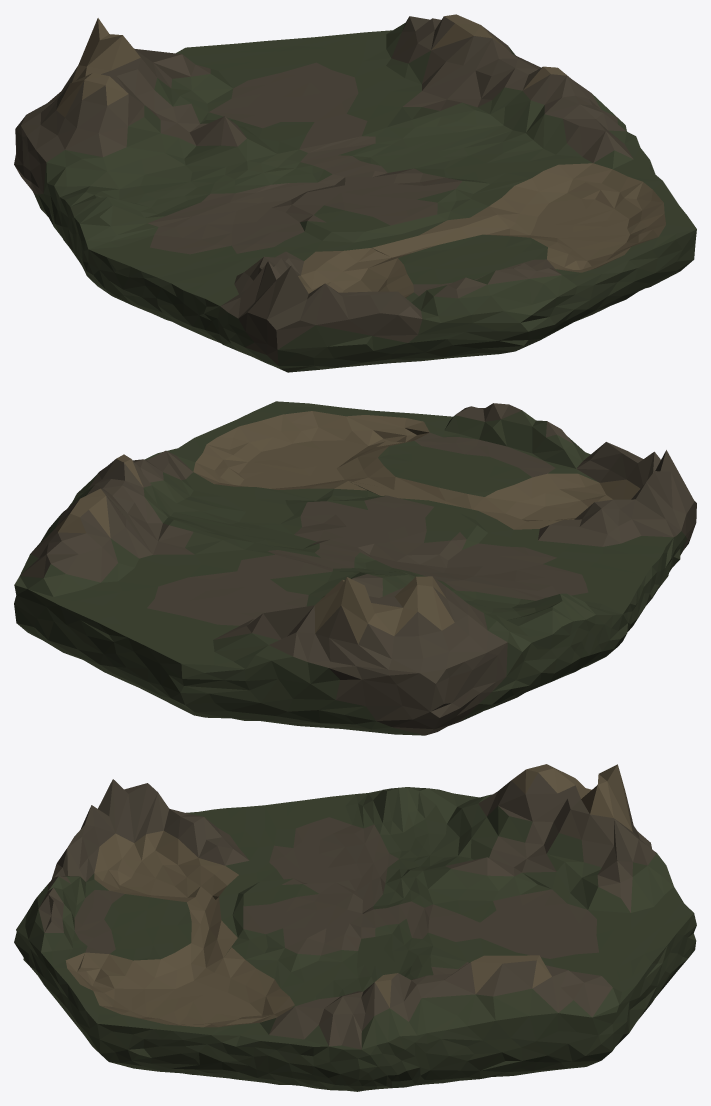
Rendered from GroundModel.fbx.
3 views of the same model, one above another, from view 1: azimuth 30°, elevation 25°; view 2: azimuth 150°, elevation 25°; view 3: azimuth 270°, elevation 25° (orthographic).
Parts seen in each view (by area): view 1: Cube; view 2: Cube; view 3: Cube.
Boxes of the visible parts, x1,y1,x2,y2 form: Cube: (14, 14, 696, 372); Cube: (14, 401, 696, 735); Cube: (14, 764, 696, 1091).
Bounding box in the file's own units: 105 × 40.7 × 118.
